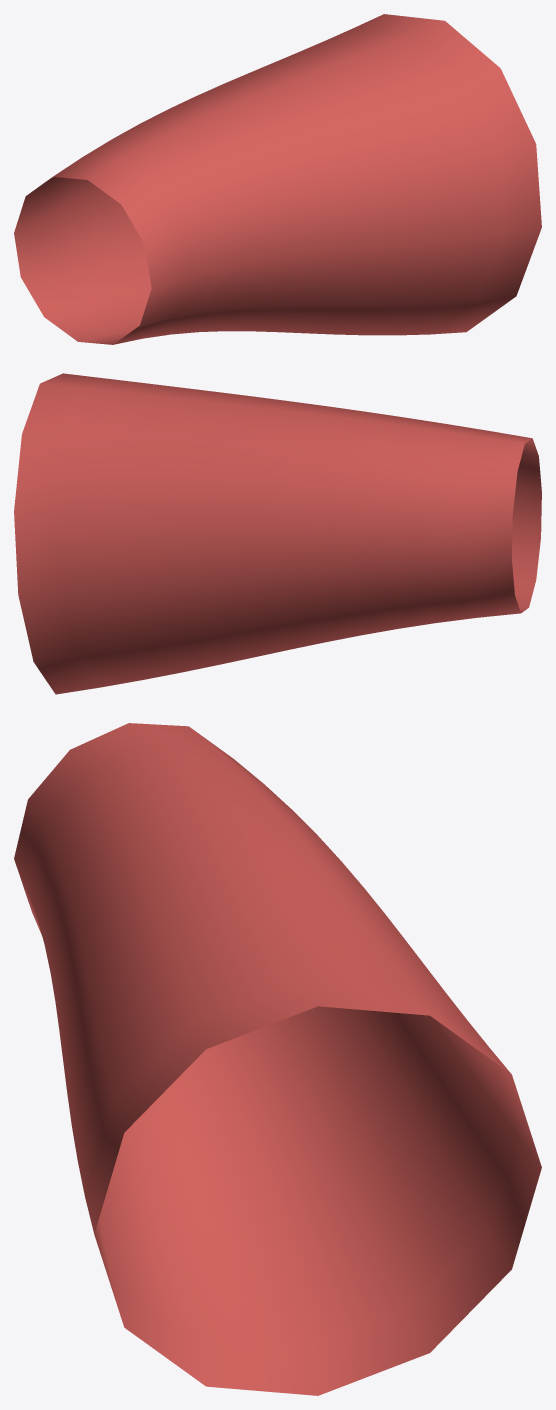
3 renders of one model, top to bottom at view 1: azimuth 30°, elevation 25°; view 2: azimuth 150°, elevation 25°; view 3: azimuth 270°, elevation 25°, orthographic. The views are drawn at different scales.
Parts seen in each view (by area): view 1: 右肺上叶动脉; view 2: 右肺上叶动脉; view 3: 右肺上叶动脉.
Part boxes in pixels (x1,y1,x2,y2): 右肺上叶动脉: [14, 14, 541, 344]; 右肺上叶动脉: [14, 373, 541, 694]; 右肺上叶动脉: [14, 723, 541, 1395].
Size of the model in its own units: 0.0543 by 0.0324 by 0.0369.
